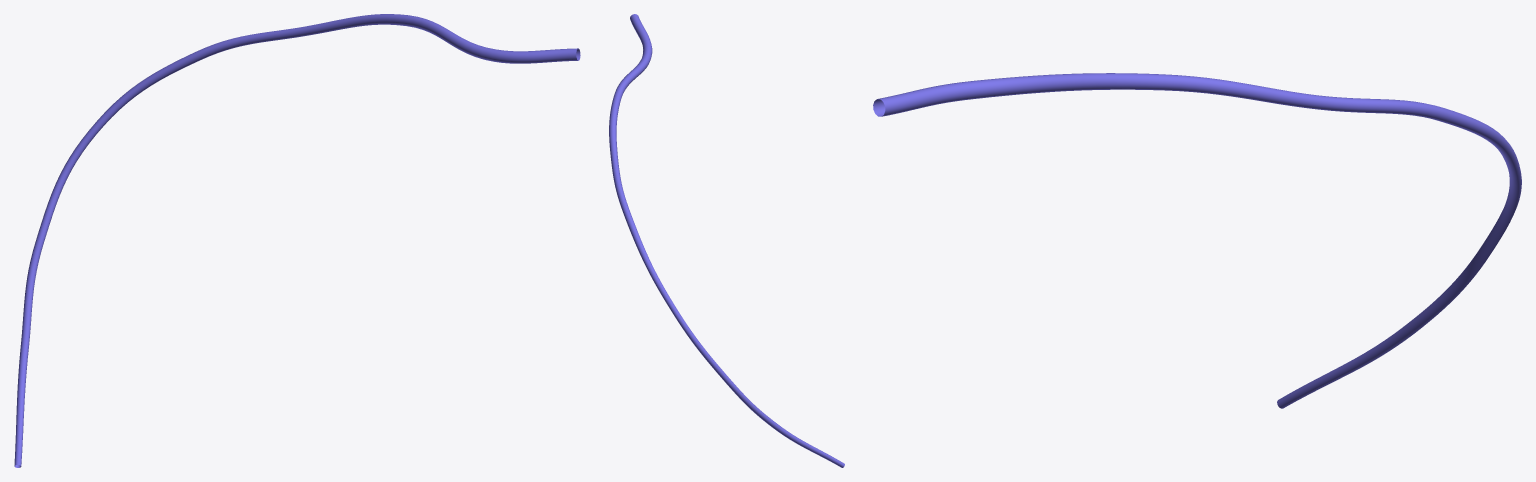
File: Right_subcostal_vein.glb
3 views of the same model, side by side, from view 1: azimuth 30°, elevation 25°; view 2: azimuth 150°, elevation 25°; view 3: azimuth 270°, elevation 25° (orthographic). The views are drawn at different scales.
Parts seen in each view (by area): view 1: Right_subcostal_vein_BezierCurve.385; view 2: Right_subcostal_vein_BezierCurve.385; view 3: Right_subcostal_vein_BezierCurve.385.
Part boxes in pixels (x1,y1,x2,y2): Right_subcostal_vein_BezierCurve.385: (14, 14, 580, 467); Right_subcostal_vein_BezierCurve.385: (609, 14, 844, 467); Right_subcostal_vein_BezierCurve.385: (873, 73, 1521, 408).
Size of the model in its own units: 0.0713 by 0.0661 by 0.0637.
